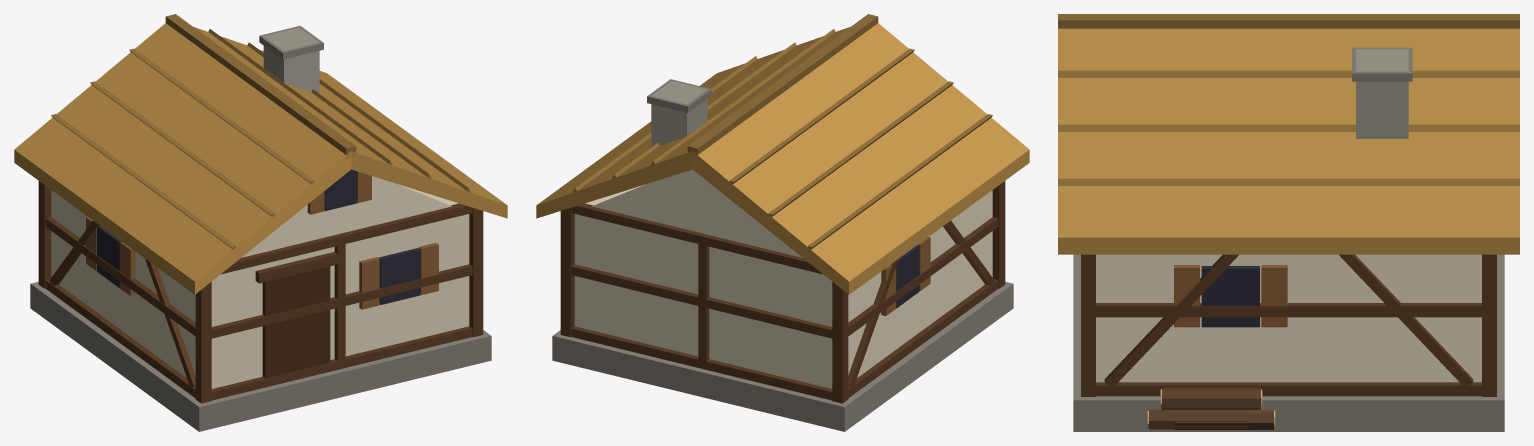
The model's file is house.glb.
3 renders of one model, left to right at view 1: azimuth 30°, elevation 25°; view 2: azimuth 150°, elevation 25°; view 3: azimuth 270°, elevation 25°, orthographic. The views are drawn at different scales.
Parts seen in each view (by area): view 1: house; view 2: house; view 3: house.
Boxes of the visible parts, left/top/right/bottom form: house: left=14, top=14, right=507, bottom=431; house: left=536, top=14, right=1029, bottom=431; house: left=1058, top=14, right=1519, bottom=431.
Size of the model in its own units: 3.96 by 3.06 by 3.96.
Materials: 1 (1 with a texture image).
